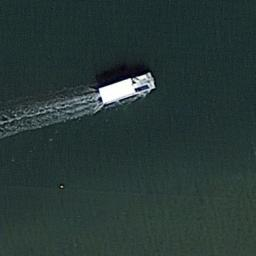boat: (95, 71, 156, 109)
